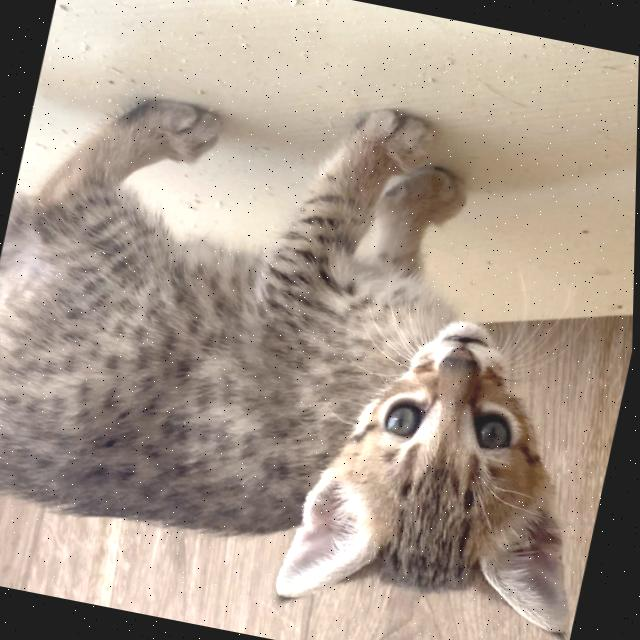Savannah: (0, 37, 639, 640)
